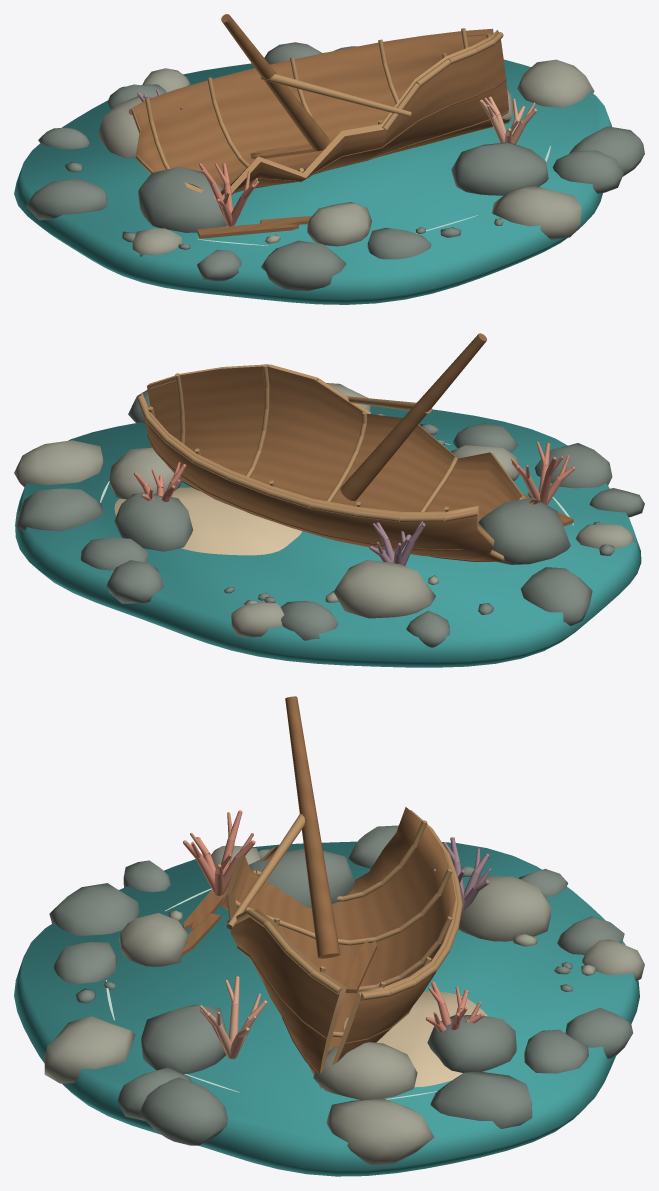
File: shipwreck-reef-v3.fbx
3 views of the same model, one above another, from view 1: azimuth 30°, elevation 25°; view 2: azimuth 150°, elevation 25°; view 3: azimuth 270°, elevation 25° (orthographic). The views are drawn at different scales.
Visible parts, largest first — view 1: Shipwreck | collectible export; view 2: Shipwreck | collectible export; view 3: Shipwreck | collectible export.
Part boxes in pixels (x1,y1,x2,y2): Shipwreck | collectible export: [14, 14, 644, 304]; Shipwreck | collectible export: [14, 333, 644, 667]; Shipwreck | collectible export: [14, 696, 644, 1176].
Size of the model in its own units: 172 by 66.88 by 145.
11 materials, 1 textured.
